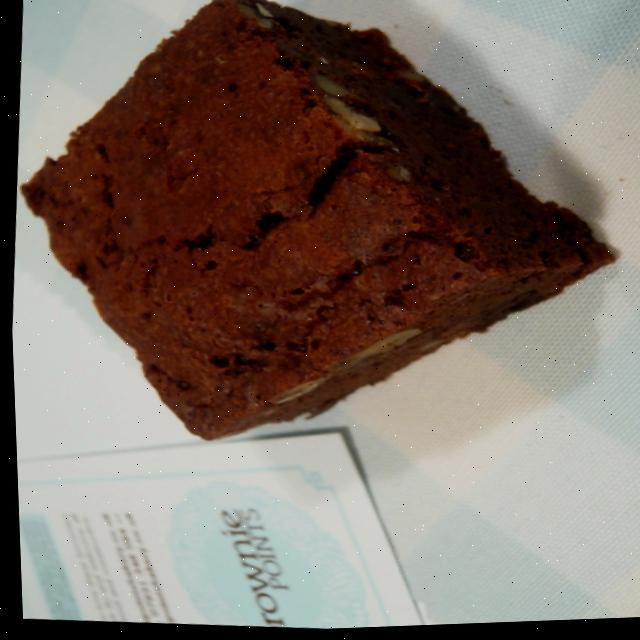蛋糕甜品: (3, 0, 635, 497)
